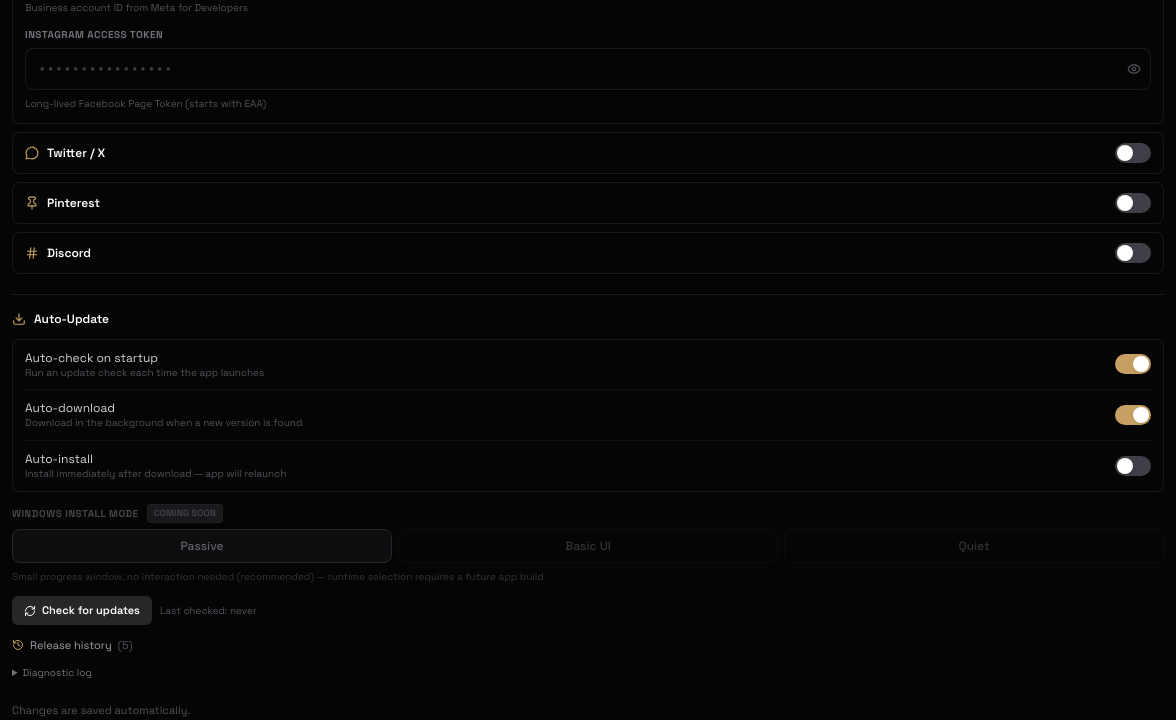
Test: DesktopSettingsPanel — V060-003 update check ACL handling › shows the latest-version success state when the check returns no update
This screenshot has width=1176, height=720.
(page scrolled)
Step 1. Click the button "Check for updates" → click(82, 611), box [12,596,152,625]
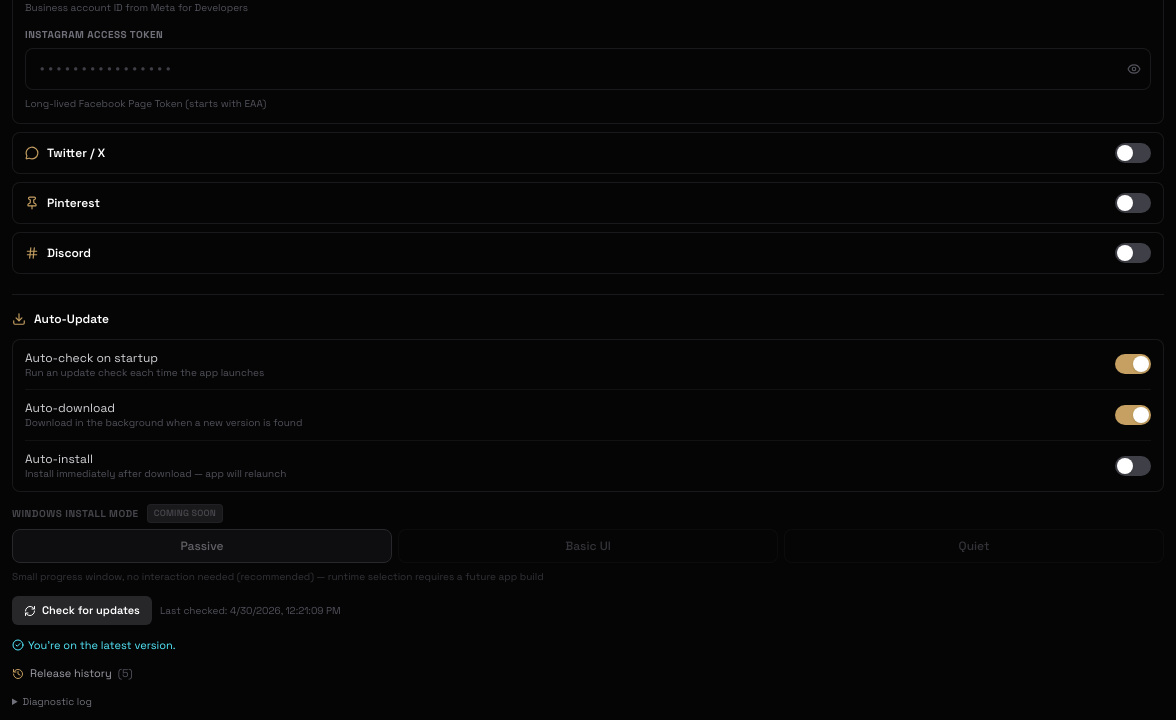
Check: the text "You're on the latest version." is shown, box [12,638,176,652]
